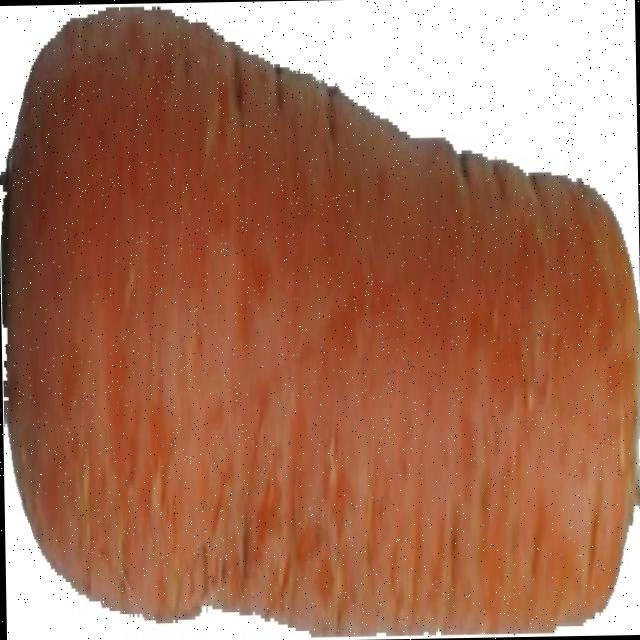carrot: (1, 12, 639, 629)
